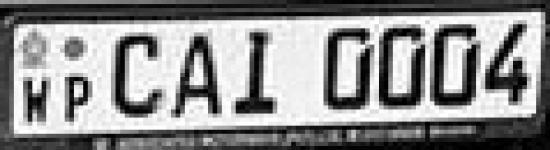0: (310, 22, 374, 119), (373, 19, 428, 117), (426, 18, 482, 113)
4: (482, 18, 532, 113)
A: (170, 26, 227, 122)
C: (111, 28, 169, 121)
I: (226, 24, 294, 119)
P: (61, 68, 101, 130)
W: (17, 72, 58, 128)
